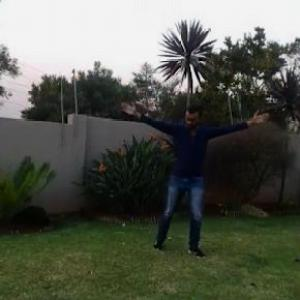takeoff: (127, 95, 267, 263)
